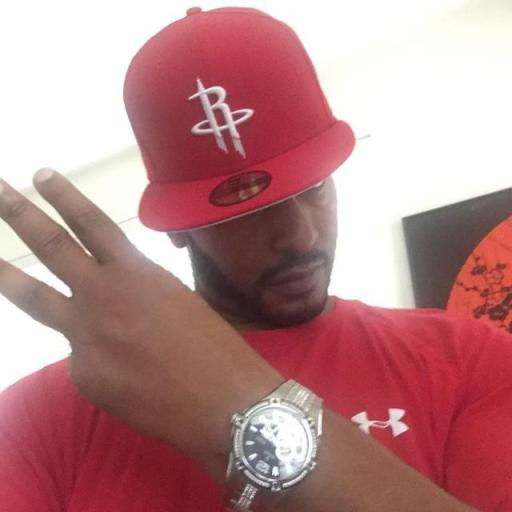Under Armour: (348, 406, 410, 438)
